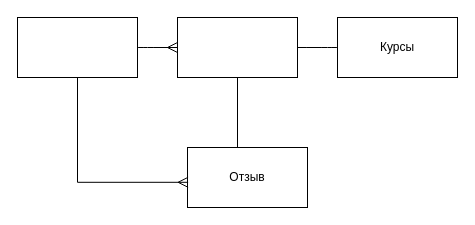
This 475x225 diagram has some shape labels left out. The shapes that lost their labels are listed below. From the top down, each one's centre as x and y in pixels, then its label:
At pixel 77 47: "Пользователь".
At pixel 237 47: "Заявка".
